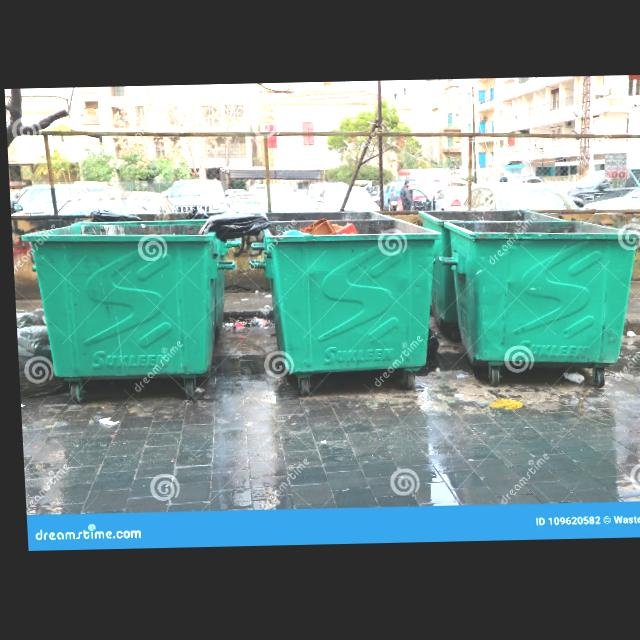Trash_Can_Empty: (17, 221, 220, 381), (443, 218, 640, 369), (259, 219, 445, 374), (414, 208, 568, 329)
